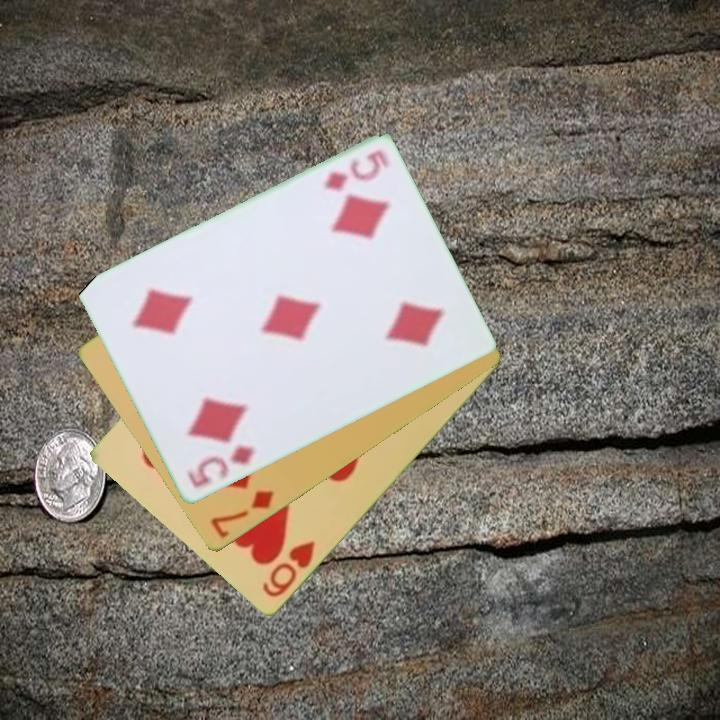5d: (182, 442, 257, 492), (321, 146, 390, 196)
6h: (258, 537, 319, 601)
7d: (207, 487, 277, 542)
